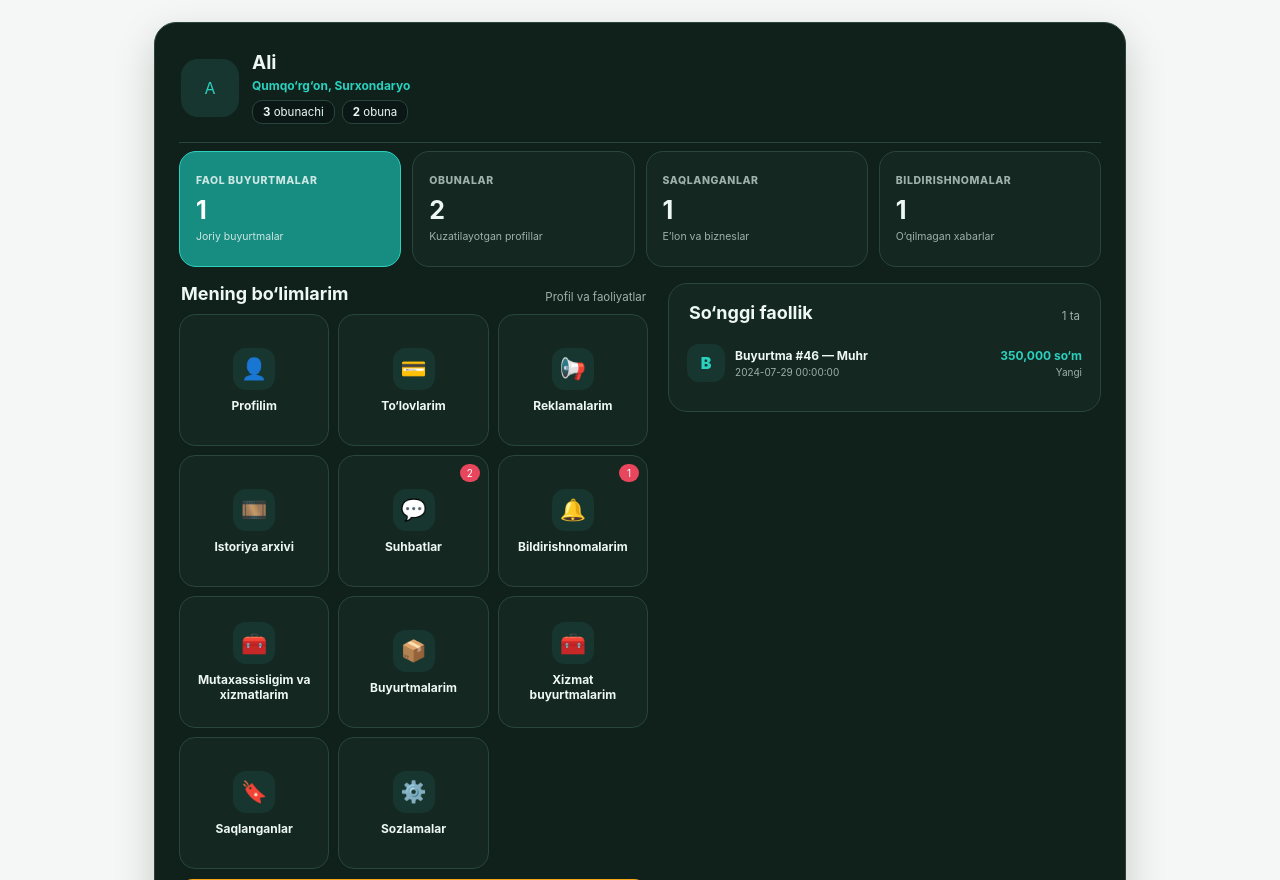
profile cabinets › opens migrated notification data from the v1656 cabinet
Click the button "🔔 Bildirishnomalarim 1".
click(573, 521)  # box [498, 455, 648, 587]
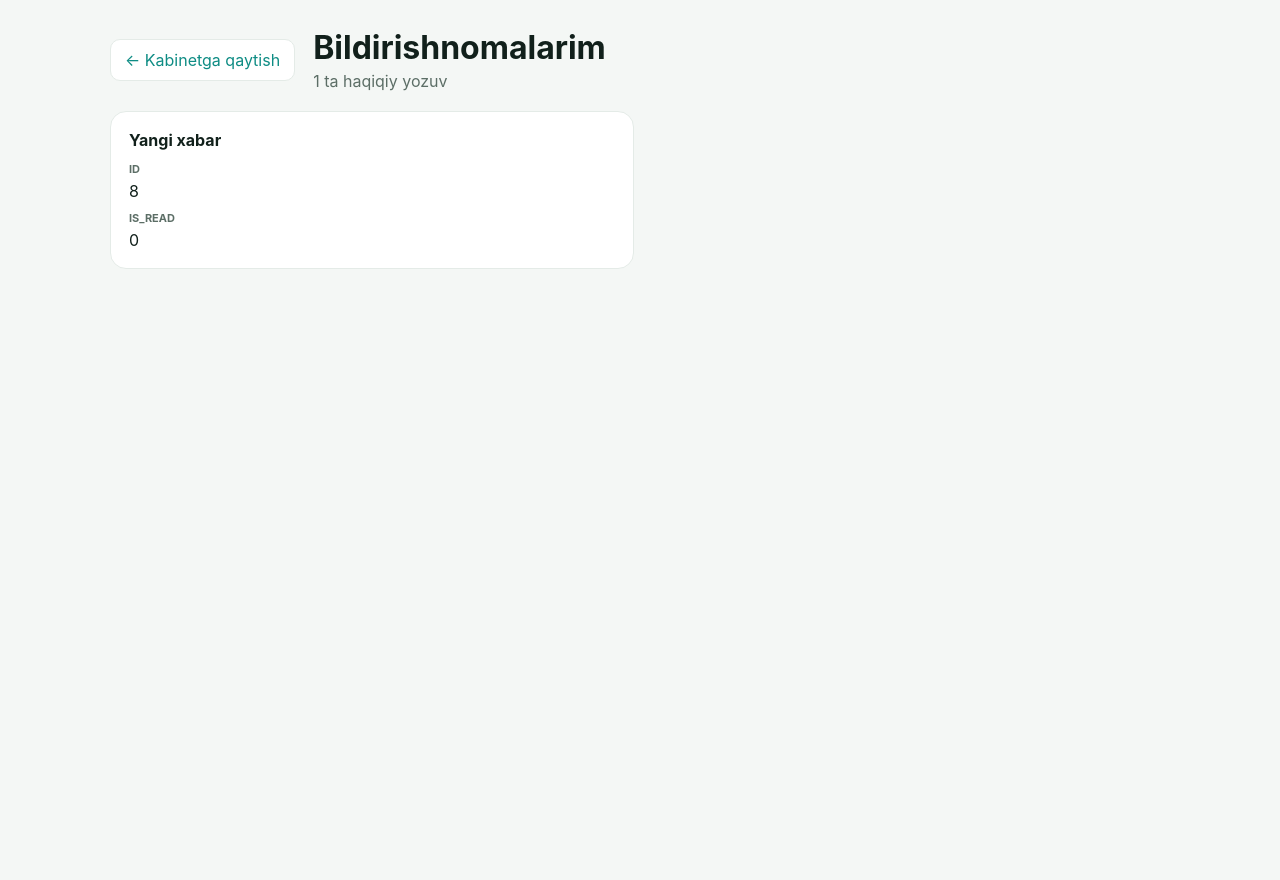
Check: the text "Yangi xabar" is shown, box [129, 130, 221, 150]
